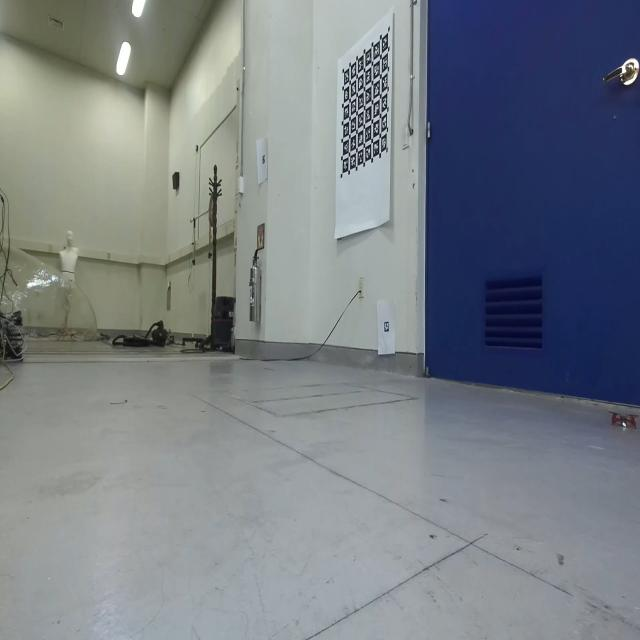crazyflie: (608, 404, 639, 434)
